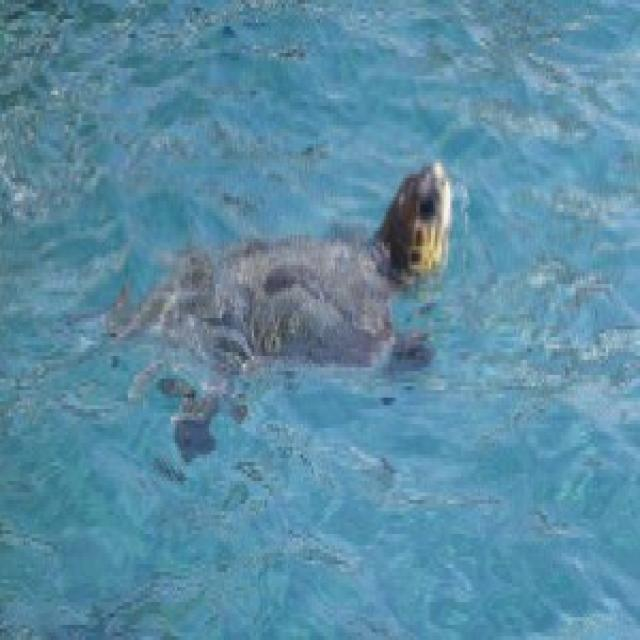Sea turtle: (104, 153, 460, 483)
